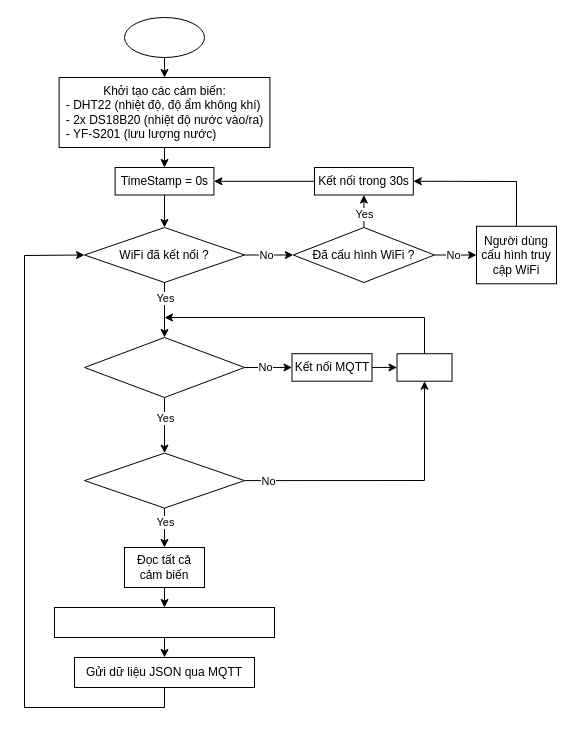
The diagram is 574 pixels wide and 733 high, and some of its shapes have lost their labels. Here are the shapes that lost their labels. From the top down, the centre of each, then its label:
the point at 164,37: Khởi động
the point at 164,367: MQTT đã kết nối ?
the point at 424,367: Chờ 5s
the point at 164,480: TimeStamp >= 5s
the point at 164,622: Tạo chuỗi JSON từ dữ liệu cảm biến
